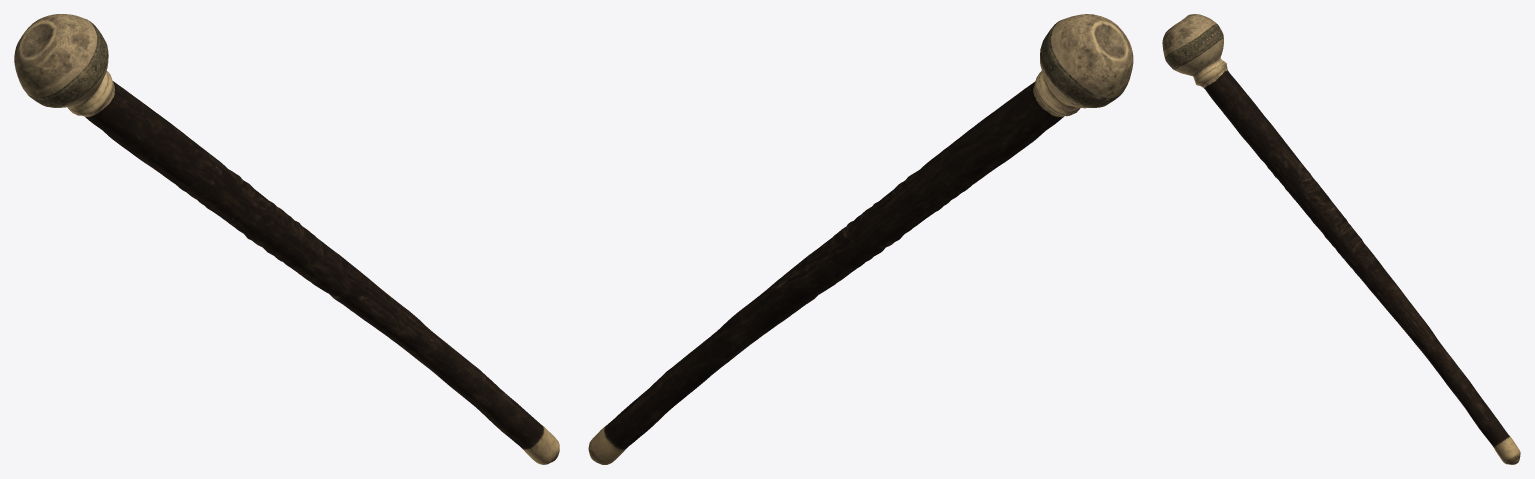
File: walking-cane.glb
The picture shows the model from 3 angles, left to right: view 1: azimuth 30°, elevation 25°; view 2: azimuth 150°, elevation 25°; view 3: azimuth 330°, elevation 25°; orthographic projection. The views are drawn at different scales.
Size of the model in its own units: 1 by 1.01 by 0.1581.
Materials: 1 (1 with a texture image).
